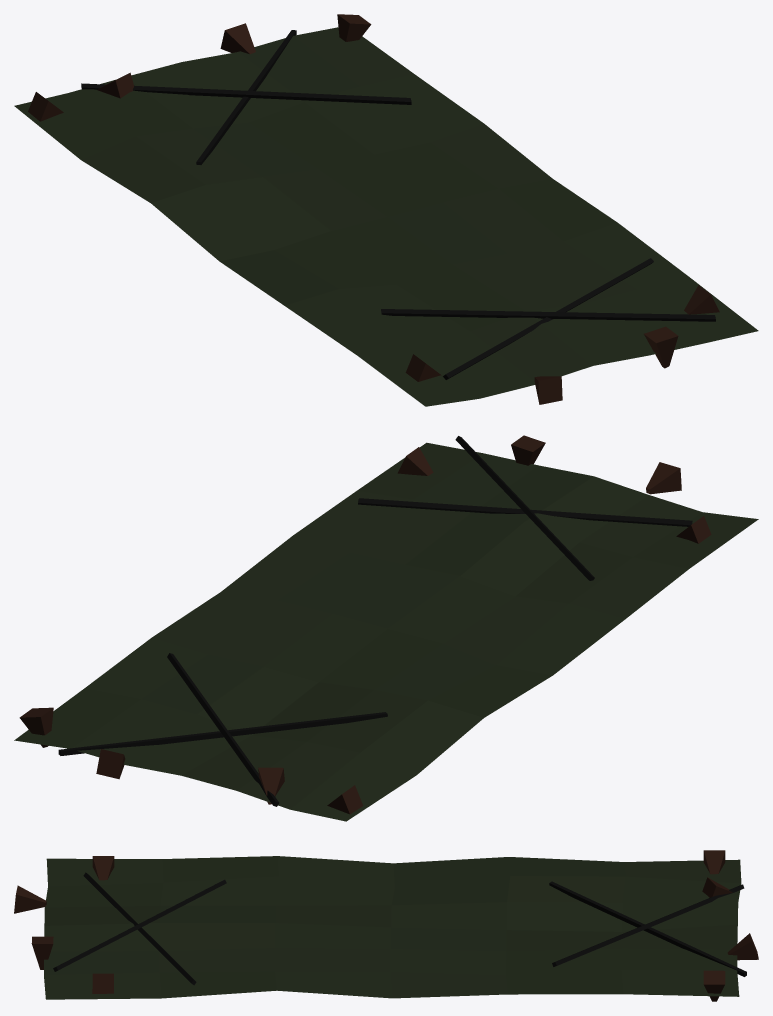
The model's file is Tienda_Destruida.FBX.
3 views of the same model, one above another, from view 1: azimuth 30°, elevation 25°; view 2: azimuth 150°, elevation 25°; view 3: azimuth 270°, elevation 25° (orthographic). The views are drawn at different scales.
Visible parts, largest first — view 1: Tienda_Destruida; view 2: Tienda_Destruida; view 3: Tienda_Destruida.
Part boxes in pixels (x1,y1,x2,y2): Tienda_Destruida: [14, 14, 758, 406]; Tienda_Destruida: [14, 435, 758, 821]; Tienda_Destruida: [14, 850, 758, 1001].
Bounding box in the file's own units: 357 × 37.05 × 804.
